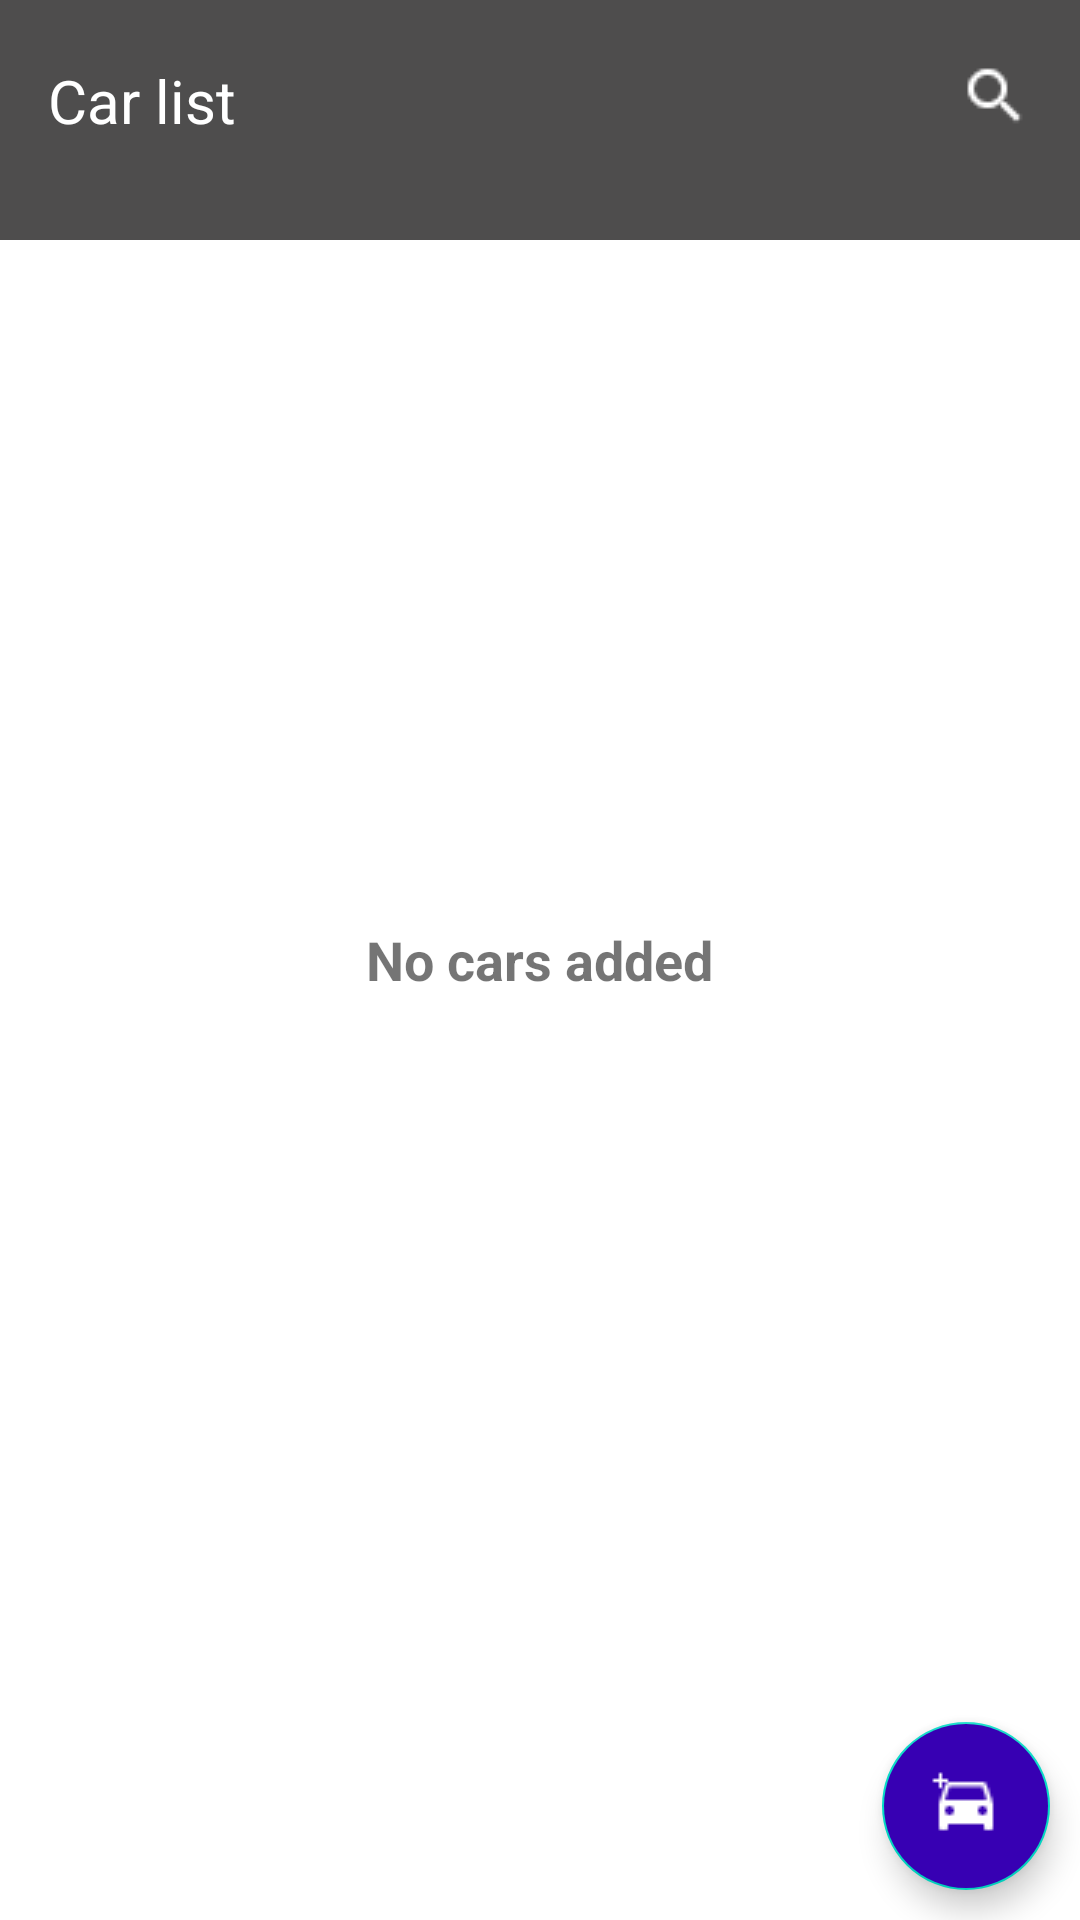

Where icons sit on this 1080px x 1920px app screen, as rect(x1, y1, x2, y2):
car: rect(882, 1722, 1050, 1890)
search: rect(967, 68, 1020, 121)
